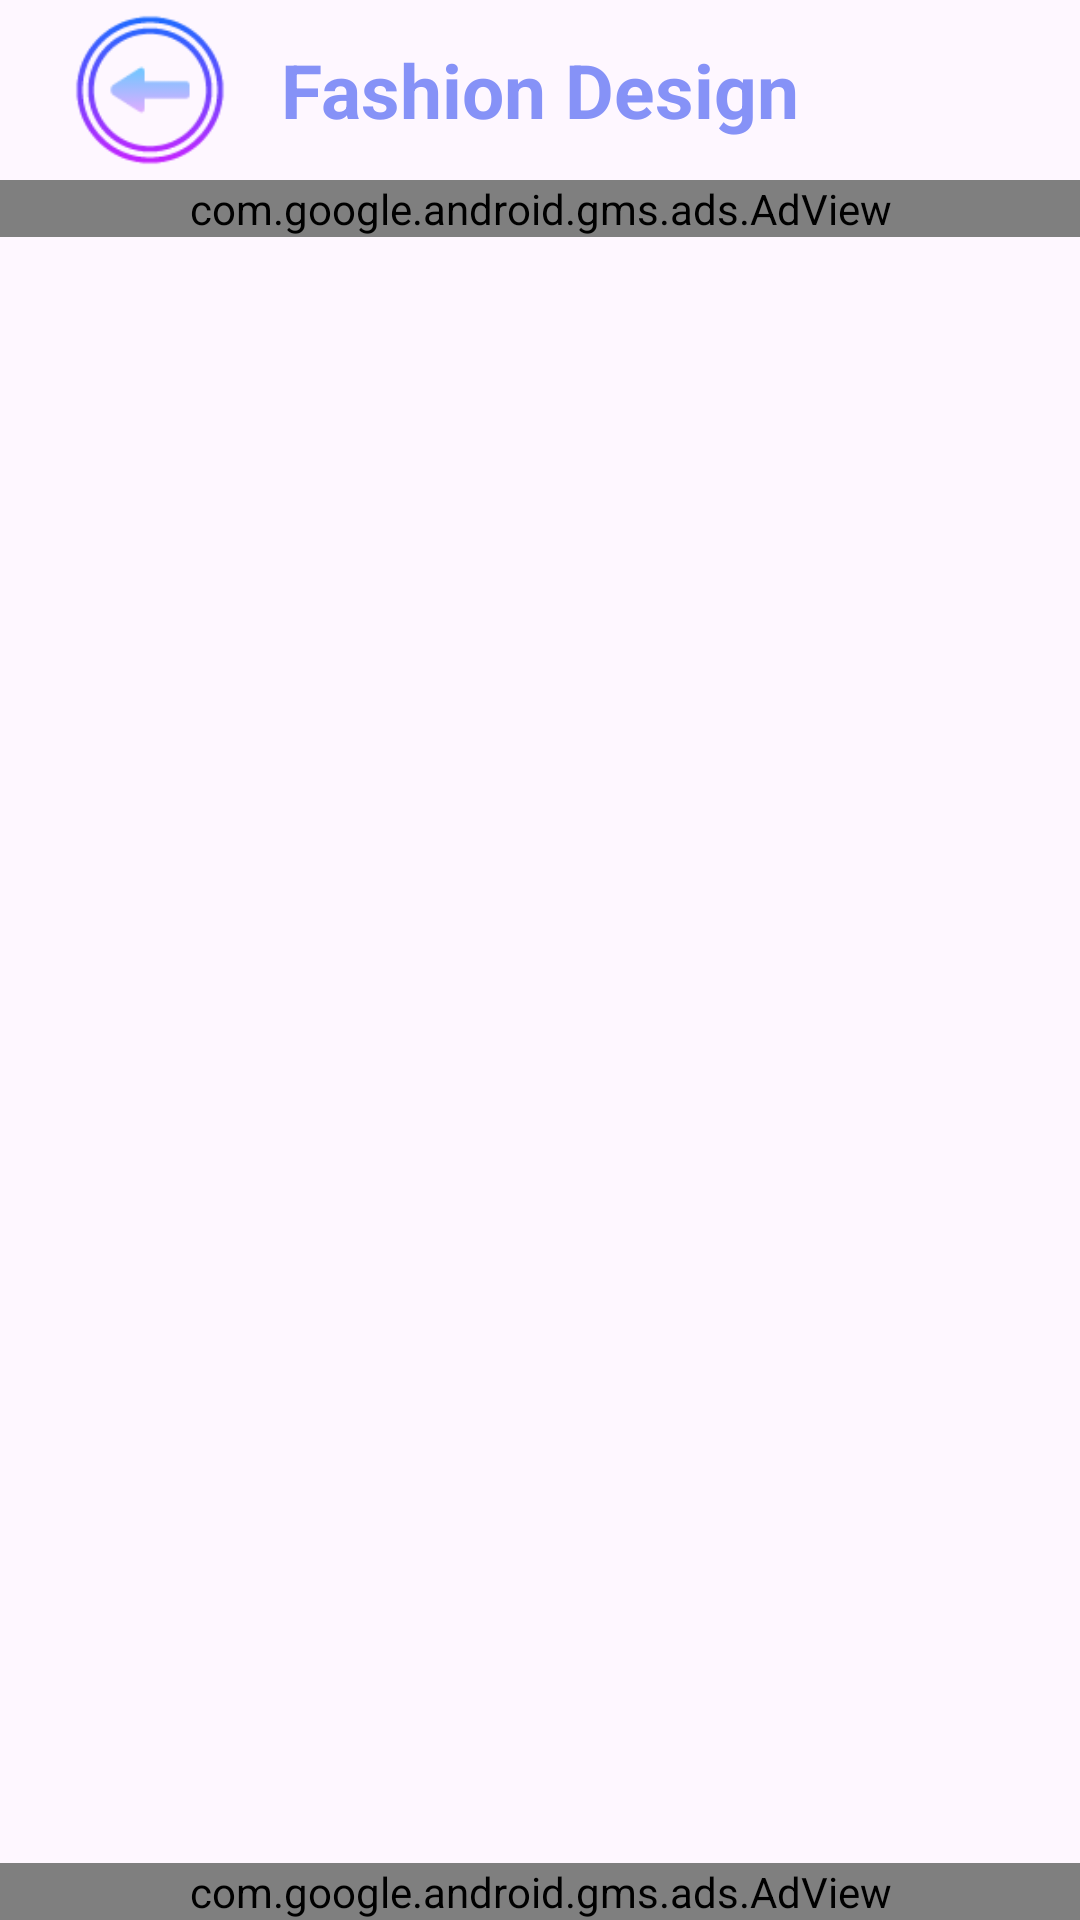

Screen size 1080 × 1920. Icon name, then its center in pixels as point (x, y):
back: point (150, 90)
